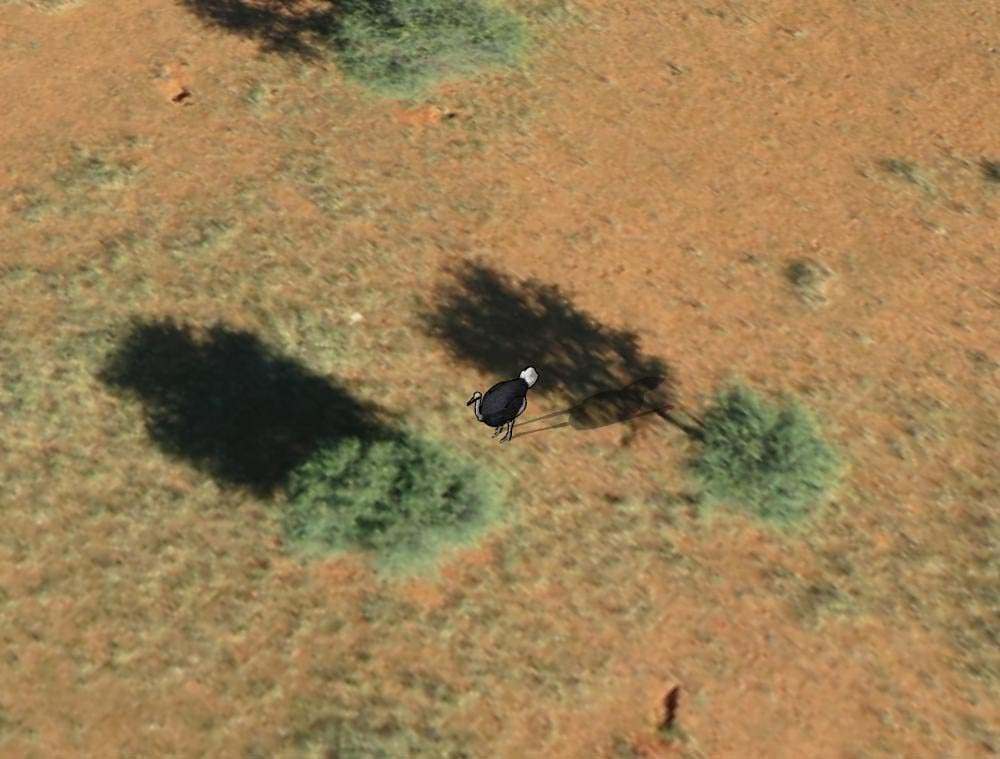springbok: (465, 364, 542, 448)
